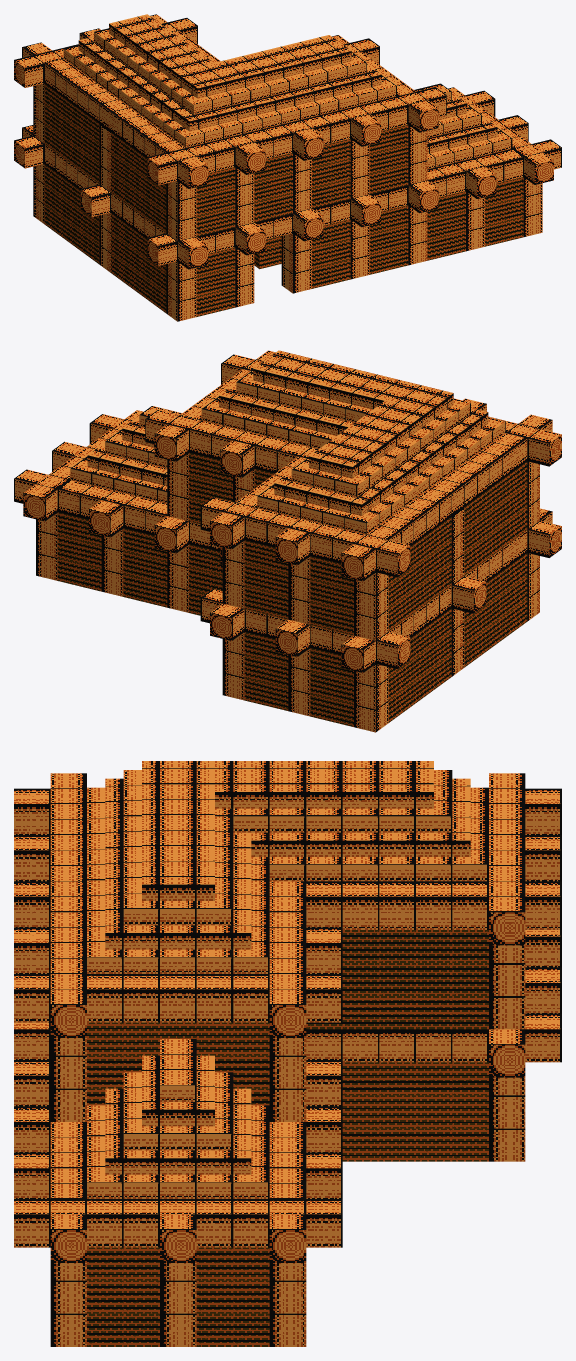
File: building4.fbx
3 views of the same model, one above another, from view 1: azimuth 30°, elevation 25°; view 2: azimuth 150°, elevation 25°; view 3: azimuth 270°, elevation 25° (orthographic). The views are drawn at different scales.
Parts seen in each view (by area): view 1: New_World__19_-60_-14_to_40_319_0; view 2: New_World__19_-60_-14_to_40_319_0; view 3: New_World__19_-60_-14_to_40_319_0.
Boxes of the visible parts, x1,y1,x2,y2 form: New_World__19_-60_-14_to_40_319_0: (14,14,561,321); New_World__19_-60_-14_to_40_319_0: (14,350,561,732); New_World__19_-60_-14_to_40_319_0: (14,761,561,1346).
Size of the model in its own units: 2100 by 1000 by 1500.
